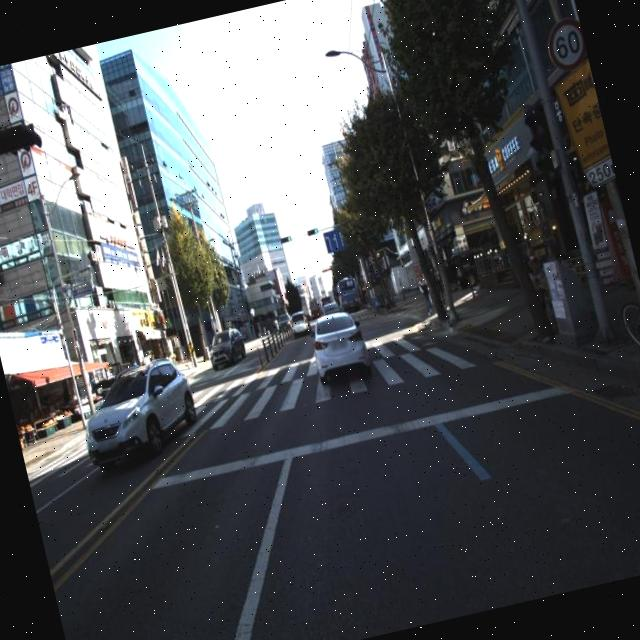crosswalk: (32, 327, 477, 475)
